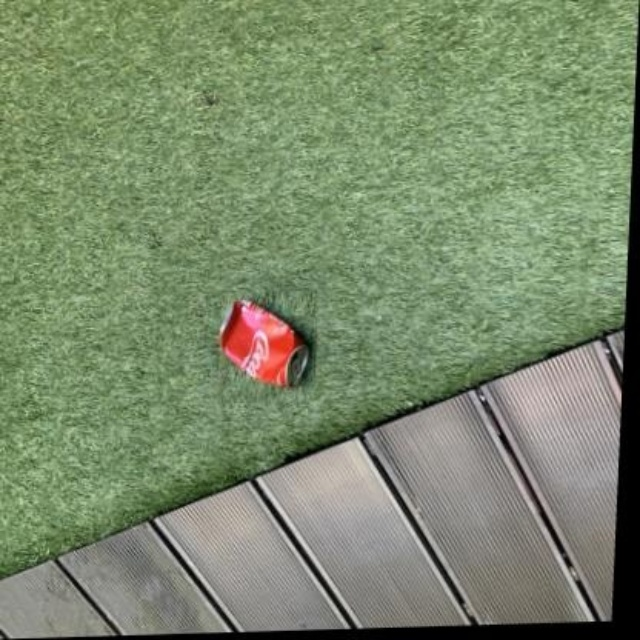trash: (220, 300, 308, 386)
